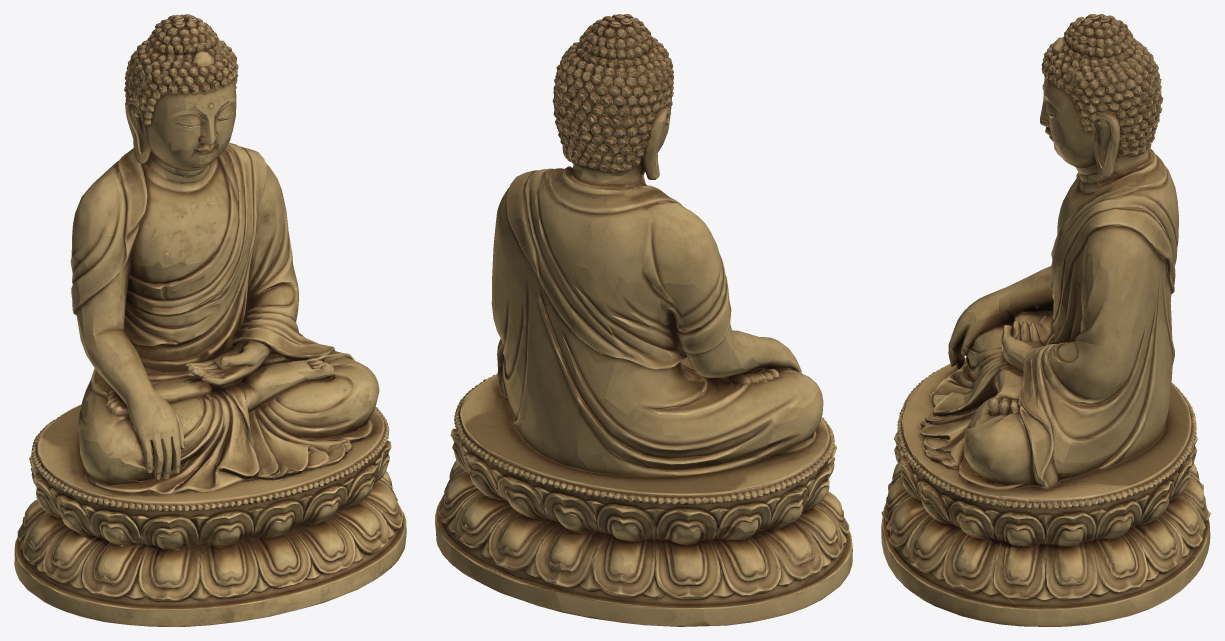
File: buddha-meshy-30k.glb
The picture shows the model from 3 angles, left to right: view 1: azimuth 30°, elevation 25°; view 2: azimuth 150°, elevation 25°; view 3: azimuth 270°, elevation 25°; orthographic projection. The views are drawn at different scales.
Visible parts, largest first — view 1: output_unwrapped; view 2: output_unwrapped; view 3: output_unwrapped.
Boxes of the visible parts, x1,y1,x2,y2 form: output_unwrapped: (14,14,406,626); output_unwrapped: (435,14,852,626); output_unwrapped: (881,14,1210,626).
Size of the model in its own units: 1.36 by 1.9 by 1.09.
Materials: 1 (1 with a texture image).
